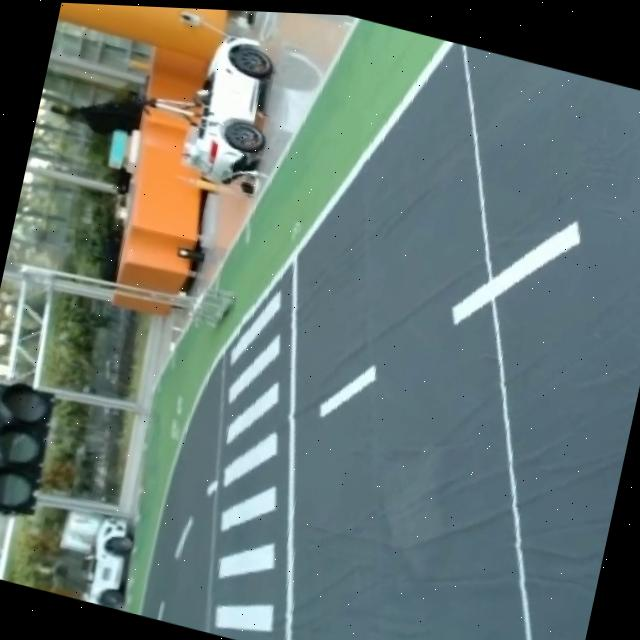traffic-light: (0, 370, 60, 521)
